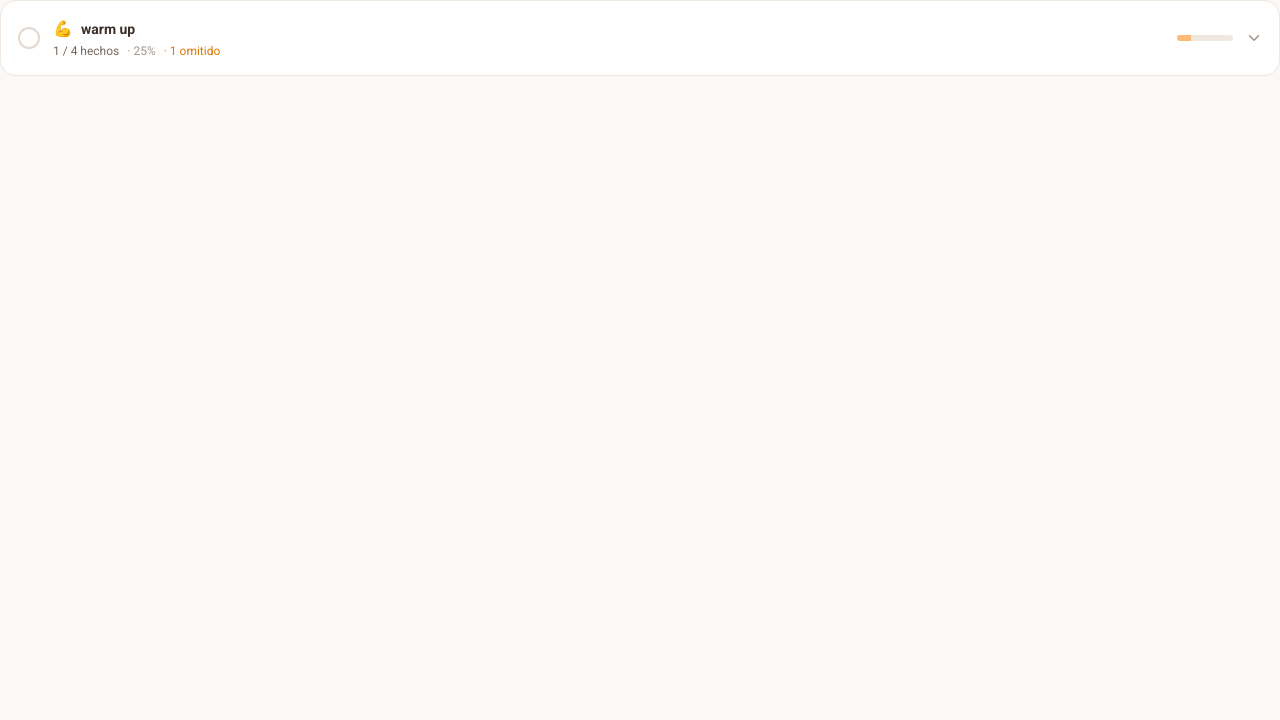
Test: lo resuelto en una línea › omitido → resumen en ámbar con el conteo
The width and height of the screenshot is (1280, 720).
Click the text "warm up": (108, 29) top-left (81, 19), bottom-right (135, 39)
(page scrolled)
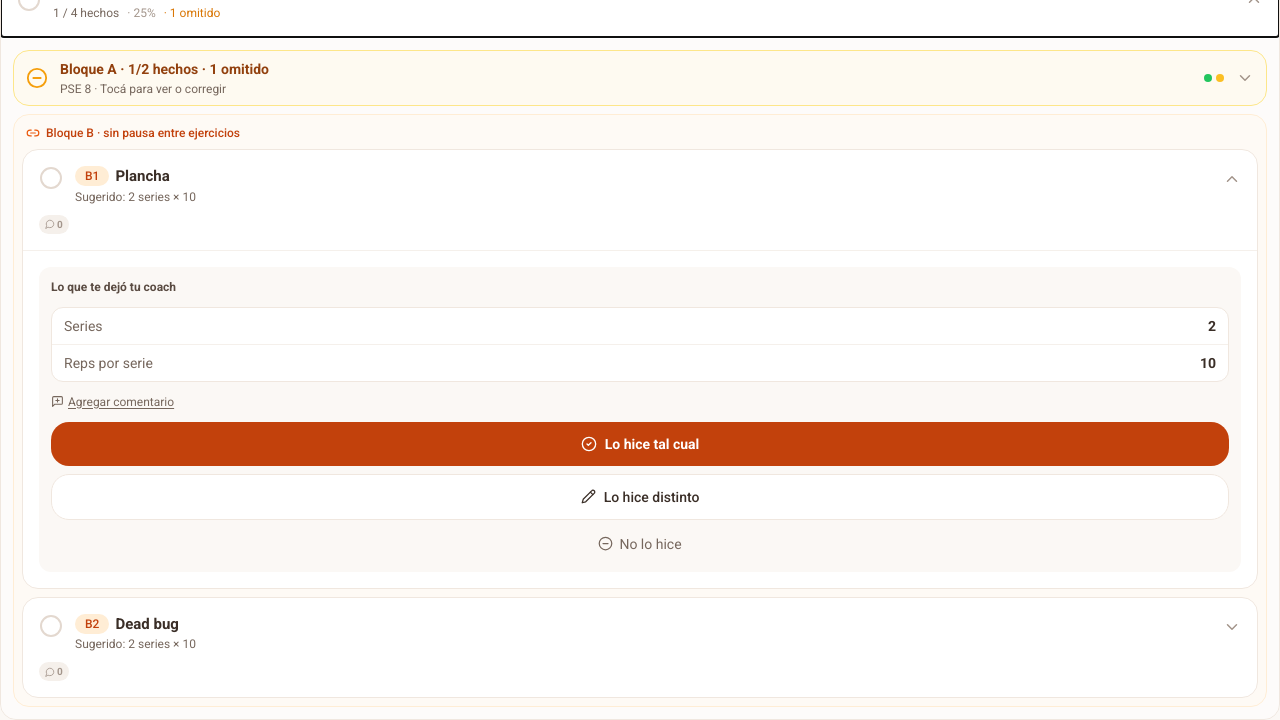
Check: the text "Bloque A · 1/2 hechos · 1 omitido" is shown, box top-left (60, 61), bottom-right (269, 77)
